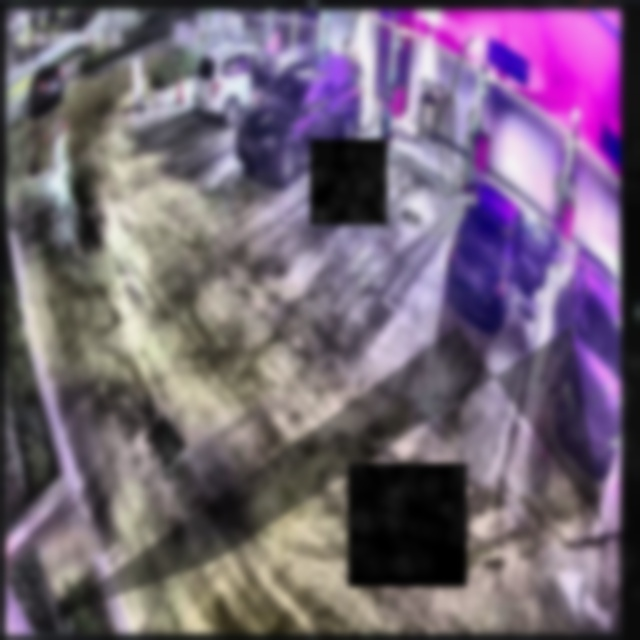Car: (446, 179, 555, 334), (237, 50, 363, 183)
